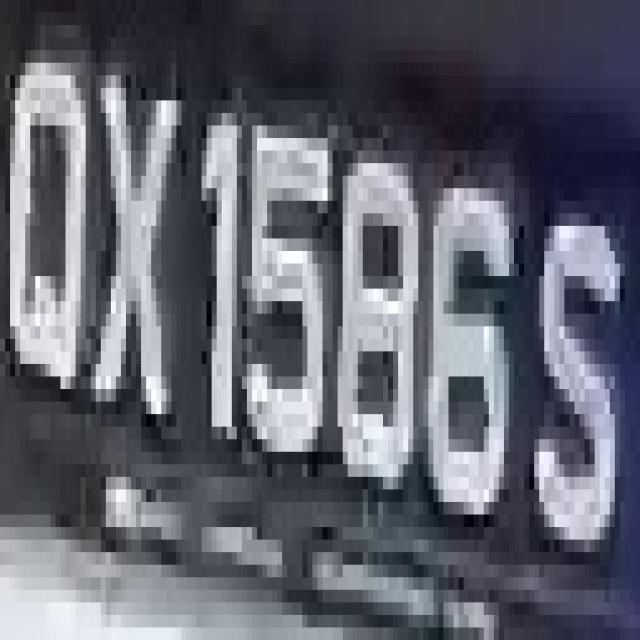1: (196, 38, 232, 490)
5: (242, 88, 327, 452)
6: (428, 151, 519, 527)
8: (333, 88, 428, 514)
Q: (10, 25, 96, 439)
S: (529, 176, 630, 602)
X: (91, 51, 171, 490)
